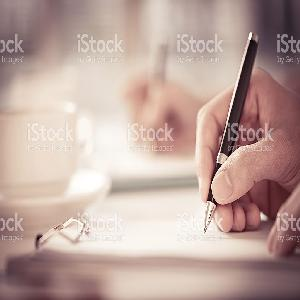pen: (196, 27, 262, 236)
